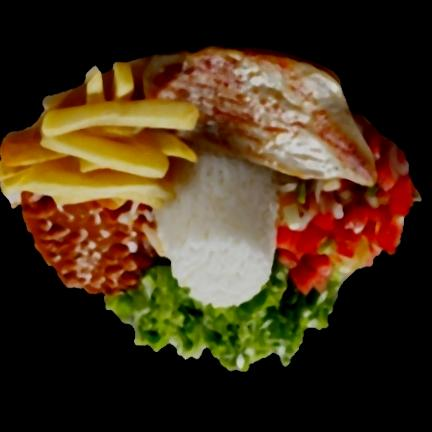beans: (22, 193, 155, 293)
chicken: (143, 48, 375, 186)
potato: (0, 63, 199, 207)
rice: (155, 151, 278, 308)
salad: (105, 260, 341, 372)
tomato: (277, 174, 414, 293)
